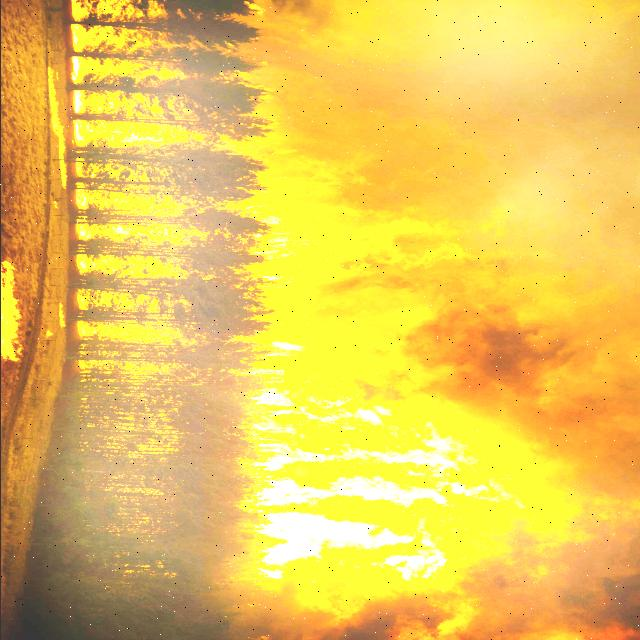api: (253, 335, 555, 621), (248, 160, 475, 313), (35, 65, 78, 196), (79, 119, 211, 154), (65, 8, 101, 116), (82, 317, 190, 343), (73, 224, 200, 244), (1, 262, 23, 363), (69, 257, 183, 275), (112, 91, 172, 119), (107, 1, 173, 24), (110, 25, 155, 57), (77, 197, 176, 211), (112, 61, 176, 79)
asap: (390, 279, 640, 453), (431, 500, 640, 640), (380, 201, 564, 281)
